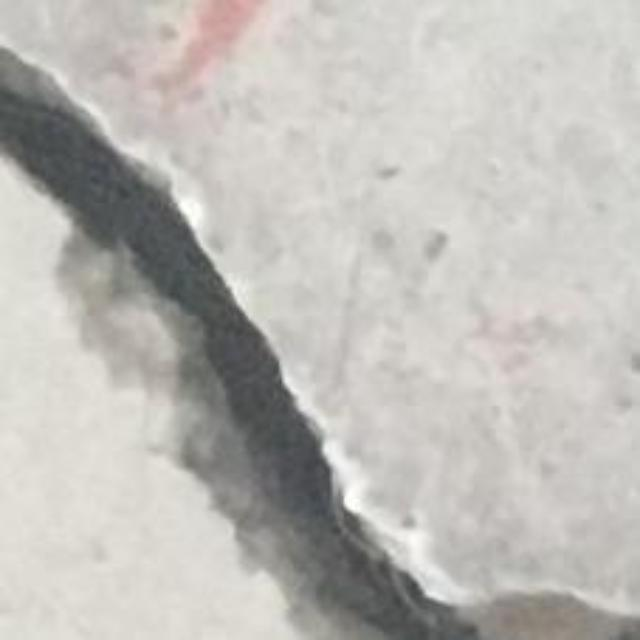crack: (0, 46, 639, 639)
